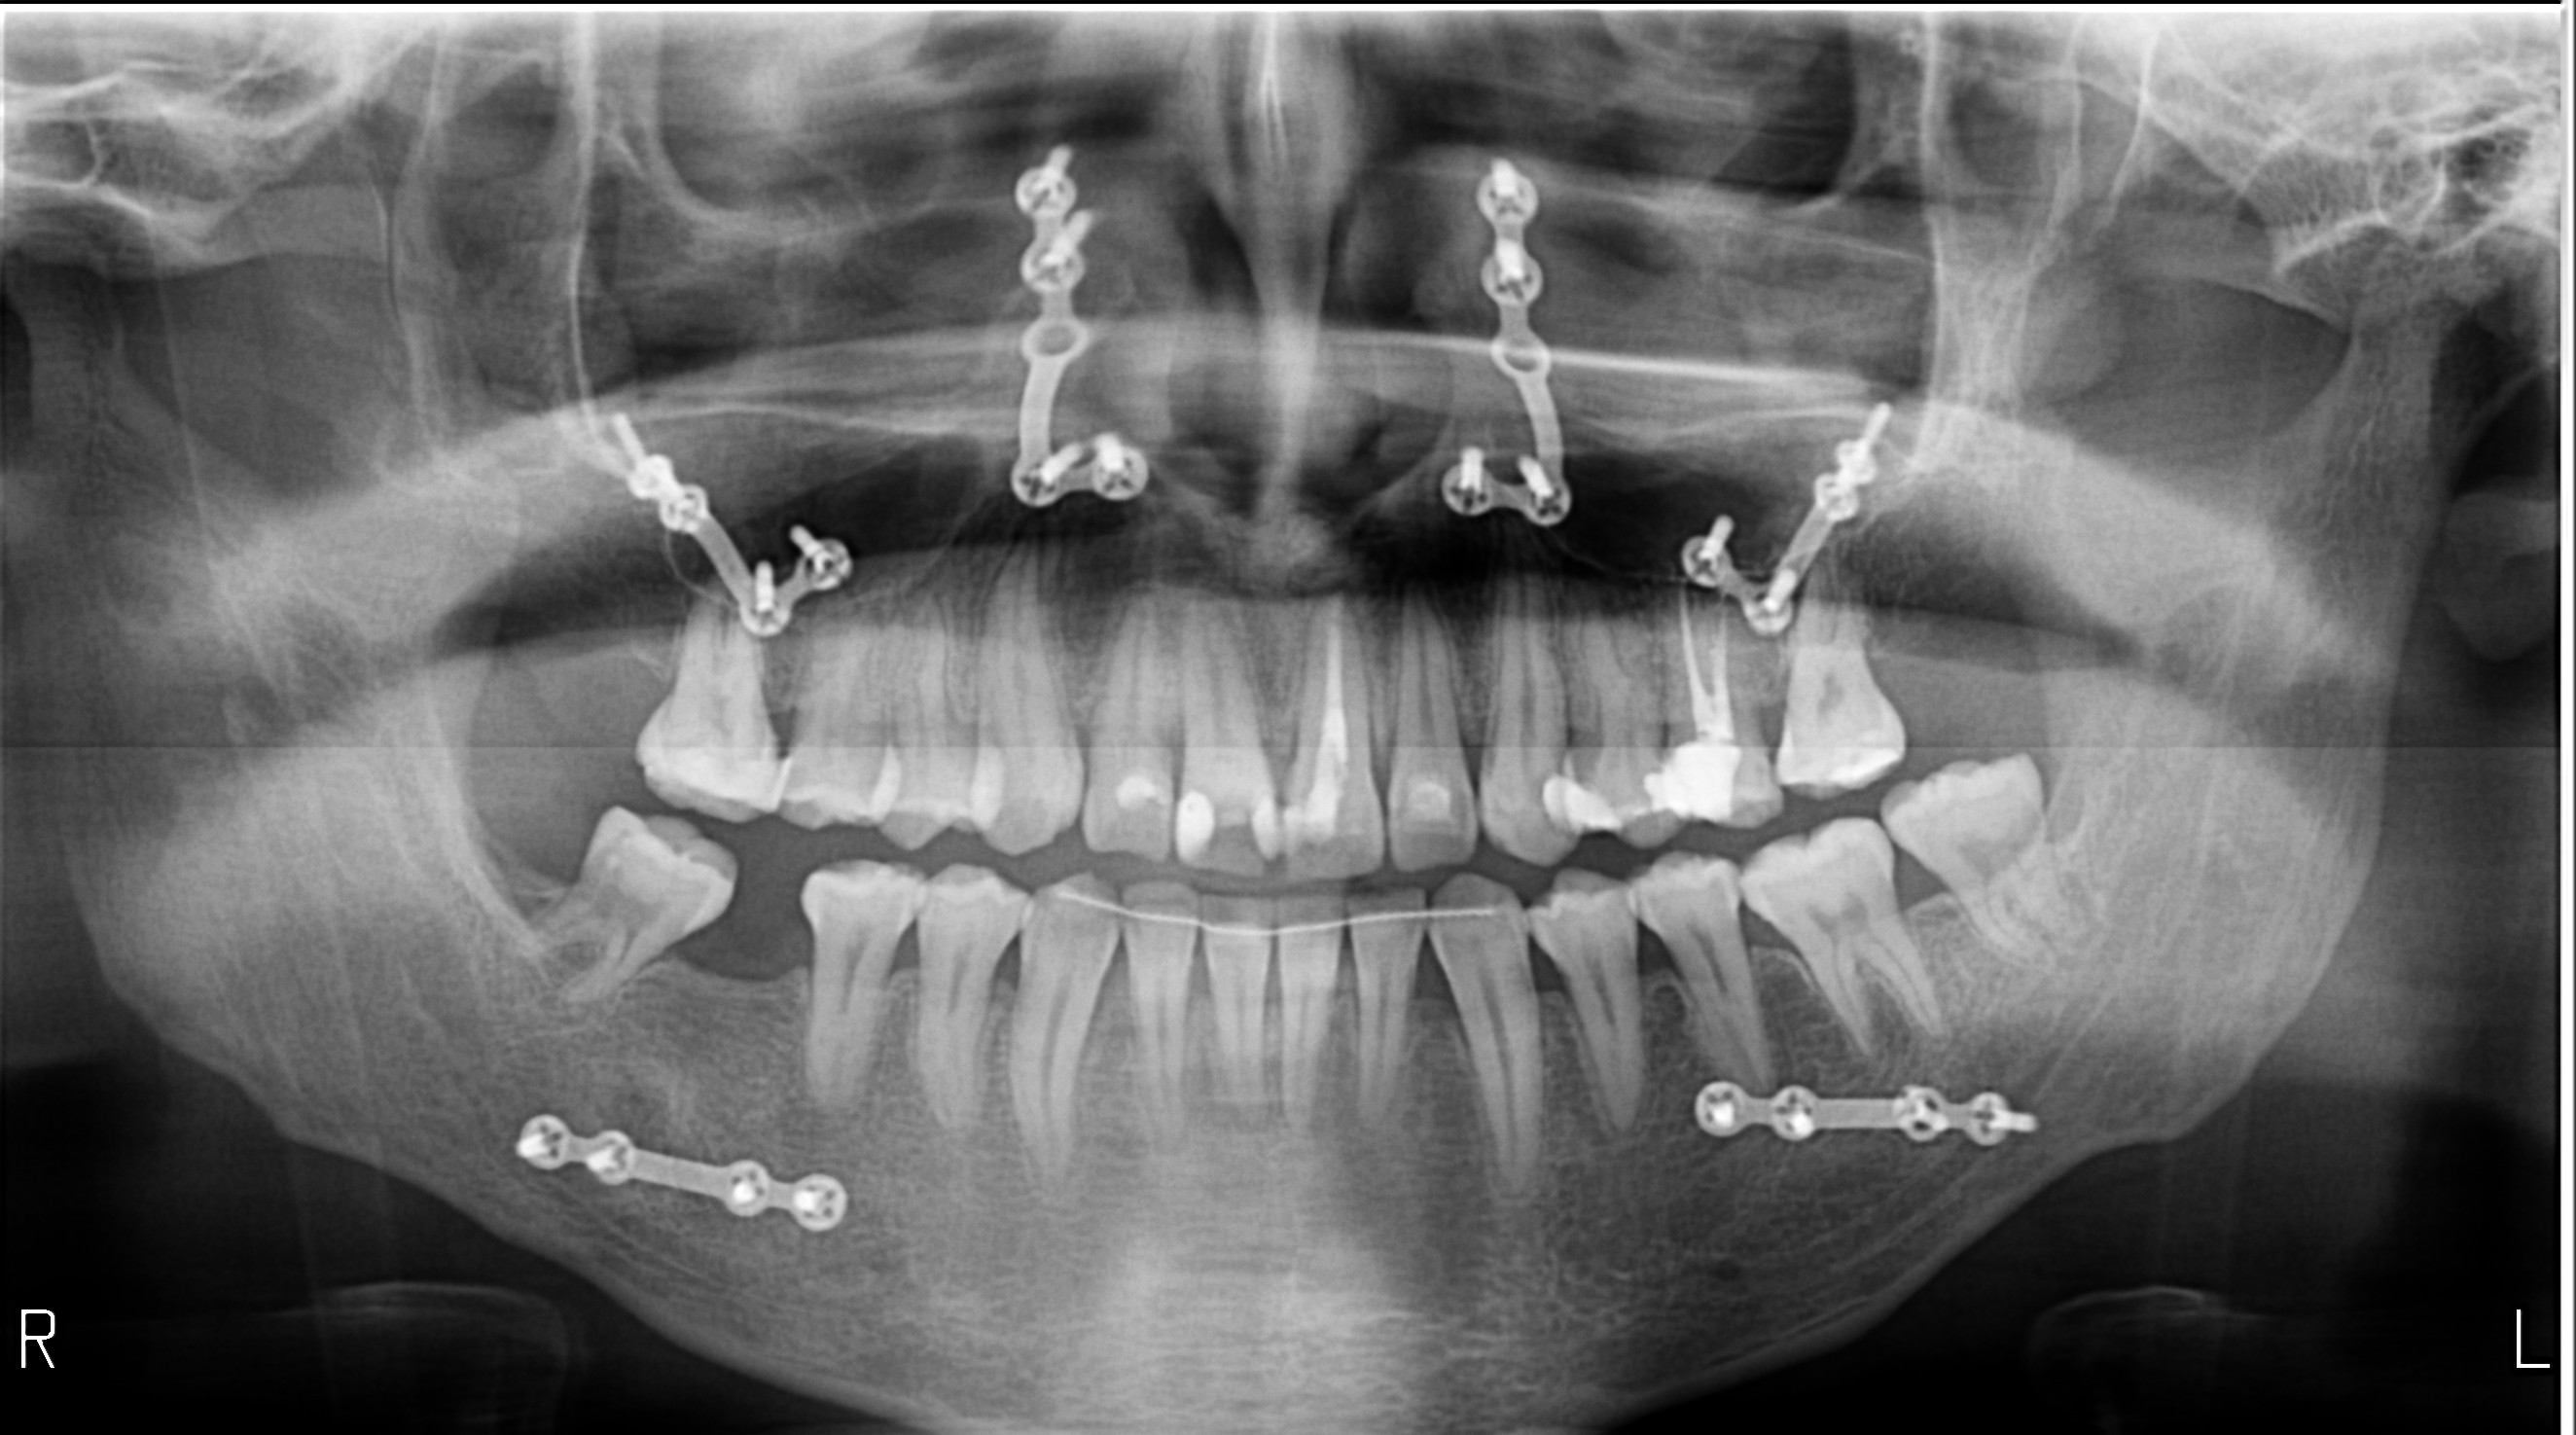END: (1652, 557, 1760, 735), (1292, 583, 1369, 748)
OBT: (1648, 739, 1753, 831), (1525, 749, 1625, 843), (1159, 774, 1242, 873), (1283, 760, 1355, 857), (1106, 749, 1191, 822), (1396, 763, 1454, 841), (1237, 771, 1281, 871)
ORD: (1018, 868, 1528, 960)
SRD: (1399, 131, 1611, 567), (954, 134, 1184, 535), (574, 399, 905, 675), (475, 1064, 890, 1272), (1647, 380, 1926, 654), (1664, 1037, 2067, 1188)
